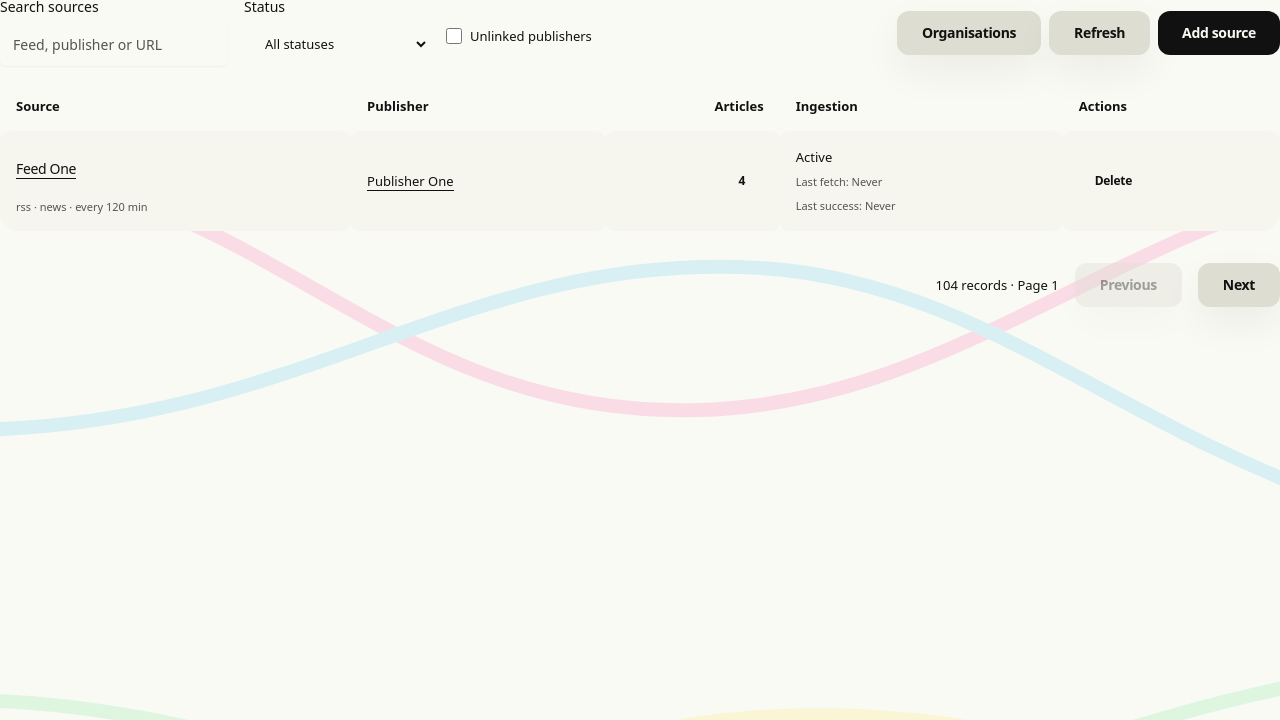
News source workspace › keeps rejected stale edits open with an actionable error
Click the button with aria-label "Edit Feed One" at (46, 168), box [16,146,76,190]
(page scrolled)
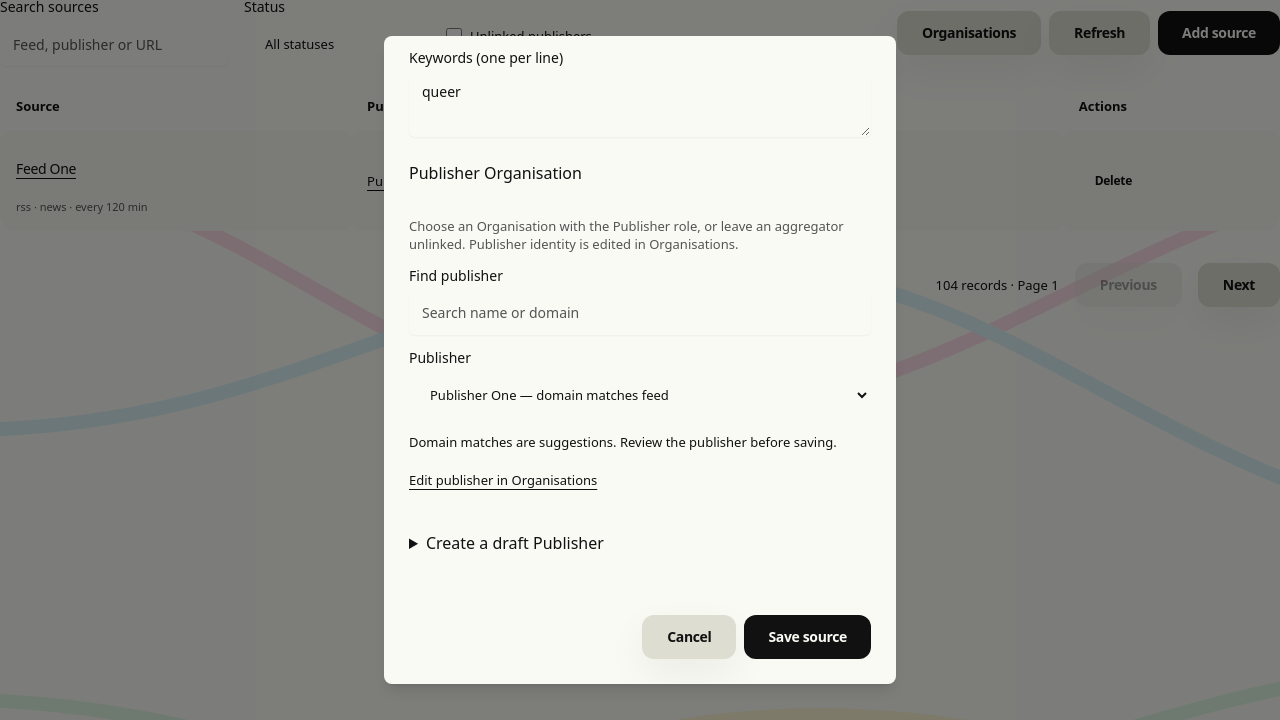
Click the button "Save source" at (808, 637), box [744,615,871,659]
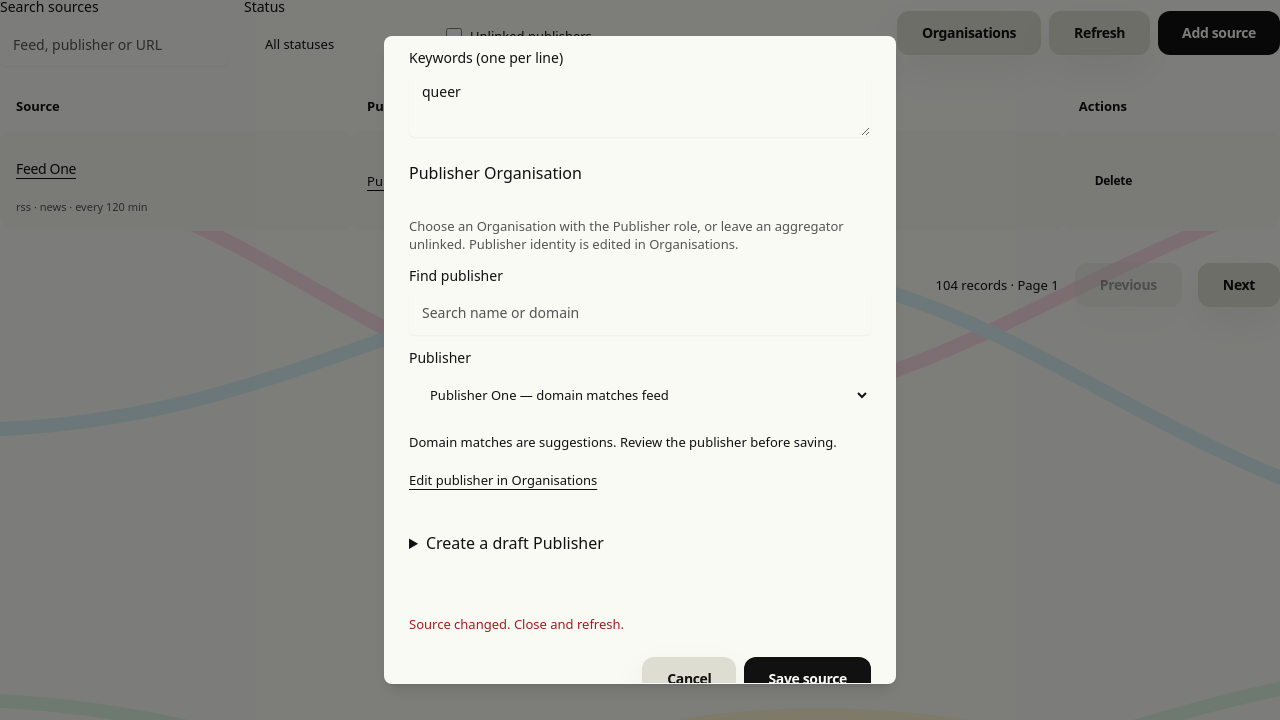
Expected: the dialog is shown, [384,36,896,684]
Expected: the message shows "Source changed", [409,615,624,633]
